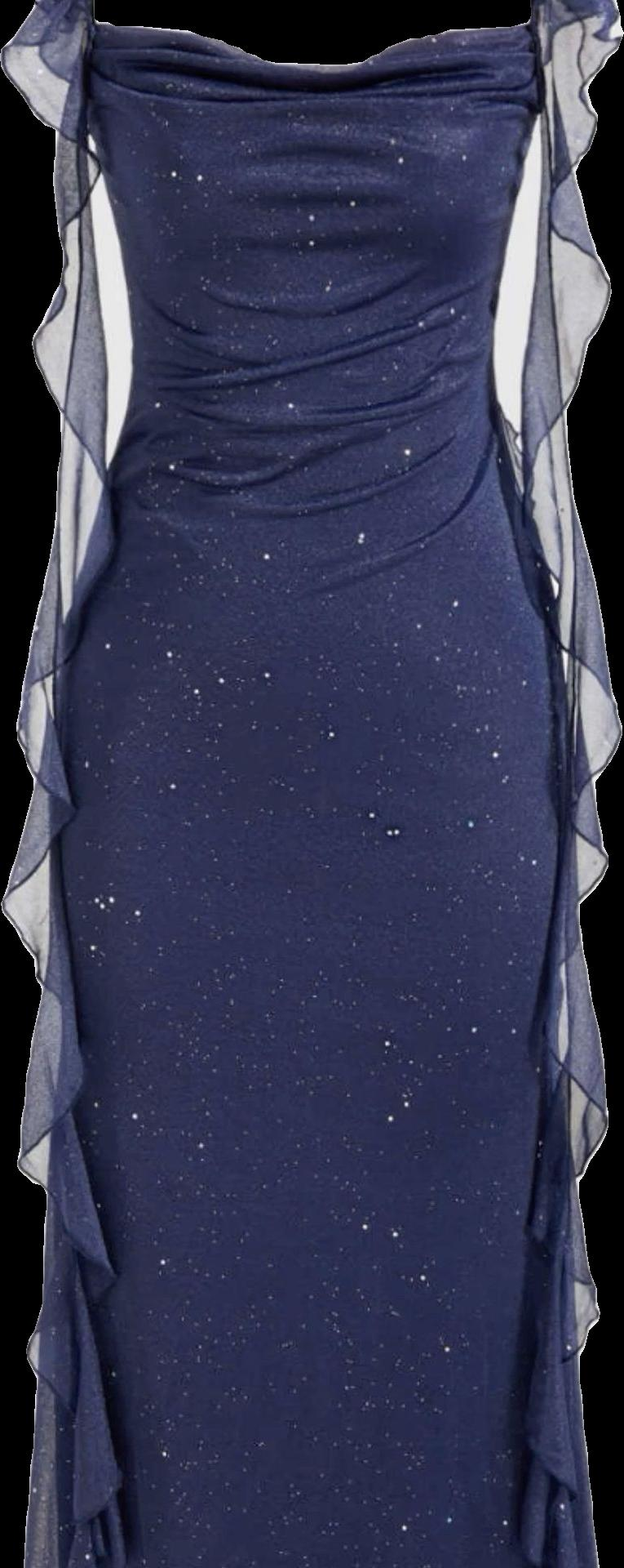Bodice: (74, 22, 555, 412)
Hemline: (494, 434, 622, 1567), (0, 479, 133, 1566), (19, 1544, 595, 1567)
Neckline: (87, 11, 538, 83)
Skirt: (2, 411, 622, 1567)
